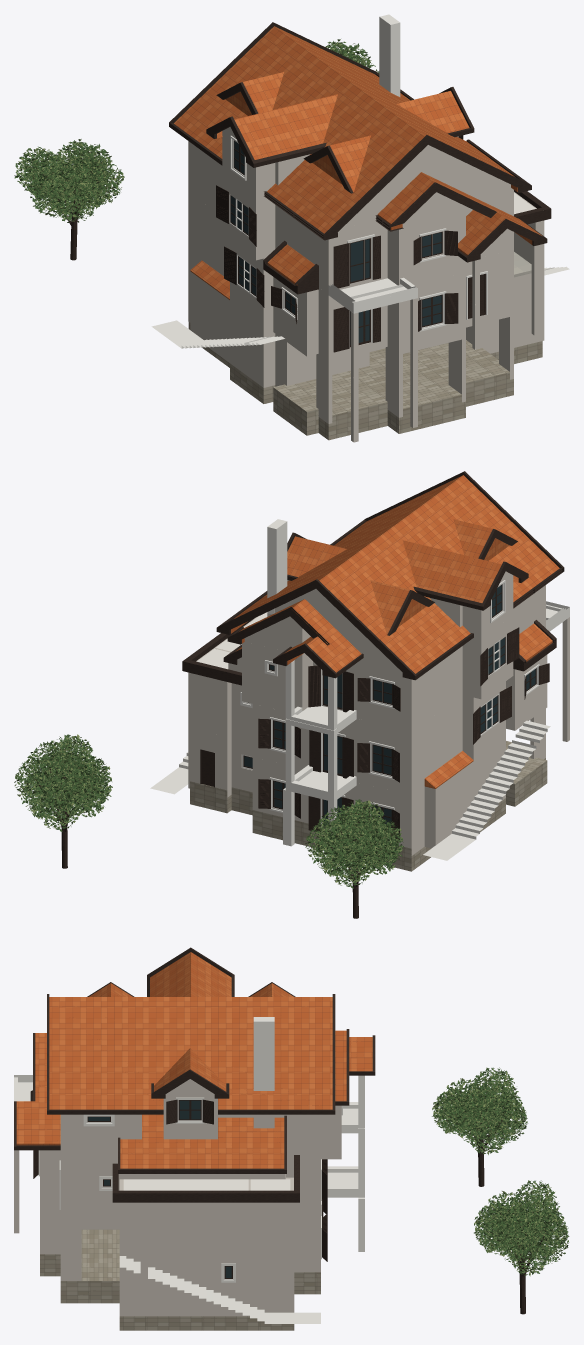
File: context-detail-b19.glb
3 renders of one model, top to bottom at view 1: azimuth 30°, elevation 25°; view 2: azimuth 150°, elevation 25°; view 3: azimuth 270°, elevation 25°, orthographic. The views are drawn at different scales.
Visible parts, largest first — view 1: B19 | ÇATII.003, B19 | KAT 0$DUVAR, B19 | KAT 1$DUVAR, B19 foundation below BK, B19 | KAT 2$DUVAR, B19 | ÇATI ALIN.002, B19 | KAT 3$DUVAR, Individual folded leaves.007, B19 | ÇATI ALIN.001, B19 | PENCERE_KAPI$SHUTTER.001, B19 | ÇATII.002, B19 | PENCERE_KAPI$SHUTTER.002 (+12 smaller); view 2: B19 | ÇATII.003, B19 | KAT 1$DUVAR, B19 | KAT 2$DUVAR, B19 | KAT 0$DUVAR, B19 | ek dalgalar, B19 | ÇATI ALIN.002, Individual folded leaves.008, Individual folded leaves.007, B19 | KAT 3$DUVAR, B19 foundation below BK, B19 | PENCERE_KAPI$SHUTTER.001, B19 | ek dalgalar.001 (+15 smaller); view 3: B19 | ÇATII.003, B19 | KAT 1$DUVAR, B19 | KAT 0$DUVAR, B19 | ÇATII.002, B19 | KAT 2$DUVAR, B19 foundation below BK, Individual folded leaves.008, Individual folded leaves.007, B19 | ek dalgalar, B19 | ÇATI ALIN.001, B19 | ÇATI ALIN.002, B19 | ÇATI ALIN (+7 smaller).
Part boxes in pixels (x1,y1,x2,y2): B19 | ÇATII.003: [174, 26, 514, 233]; B19 | KAT 0$DUVAR: [188, 259, 544, 442]; B19 | KAT 1$DUVAR: [188, 192, 544, 360]; B19 foundation below BK: [188, 322, 542, 440]; B19 | KAT 2$DUVAR: [188, 141, 513, 294]; B19 | ÇATI ALIN.002: [169, 22, 531, 239]; B19 | KAT 3$DUVAR: [222, 127, 510, 228]; Individual folded leaves.007: [14, 139, 124, 222]; B19 | ÇATI ALIN.001: [169, 73, 547, 287]; B19 | PENCERE_KAPI$SHUTTER.001: [224, 246, 458, 352]; B19 | ÇATII.002: [268, 184, 541, 282]; B19 | PENCERE_KAPI$SHUTTER.002: [216, 135, 463, 288]; B19 | ÇATII.003: [234, 475, 559, 673]; B19 | KAT 1$DUVAR: [188, 616, 547, 795]; B19 | KAT 2$DUVAR: [228, 585, 545, 731]; B19 | KAT 0$DUVAR: [188, 617, 569, 855]; B19 | ek dalgalar: [150, 720, 550, 860]; B19 | ÇATI ALIN.002: [216, 471, 563, 677]; Individual folded leaves.008: [14, 734, 112, 831]; Individual folded leaves.007: [305, 799, 403, 888]; B19 | KAT 3$DUVAR: [244, 571, 513, 668]; B19 foundation below BK: [190, 741, 547, 871]; B19 | PENCERE_KAPI$SHUTTER.001: [258, 663, 549, 782]; B19 | ek dalgalar.001: [285, 604, 569, 819]; B19 | ÇATII.003: [35, 952, 372, 1109]; B19 | KAT 1$DUVAR: [14, 1150, 320, 1257]; B19 | KAT 0$DUVAR: [14, 1203, 320, 1316]; B19 | ÇATII.002: [16, 1101, 284, 1168]; B19 | KAT 2$DUVAR: [60, 1105, 341, 1179]; B19 foundation below BK: [40, 1229, 320, 1330]; Individual folded leaves.008: [474, 1180, 569, 1276]; Individual folded leaves.007: [432, 1067, 527, 1154]; B19 | ek dalgalar: [119, 1166, 364, 1323]; B19 | ÇATI ALIN.001: [14, 1072, 375, 1173]; B19 | ÇATI ALIN.002: [33, 947, 375, 1110]; B19 | ÇATI ALIN: [112, 1155, 299, 1202].
Size of the model in its own units: 18.95 by 14.71 by 26.72.
Materials: 12 (12 with a texture image).
